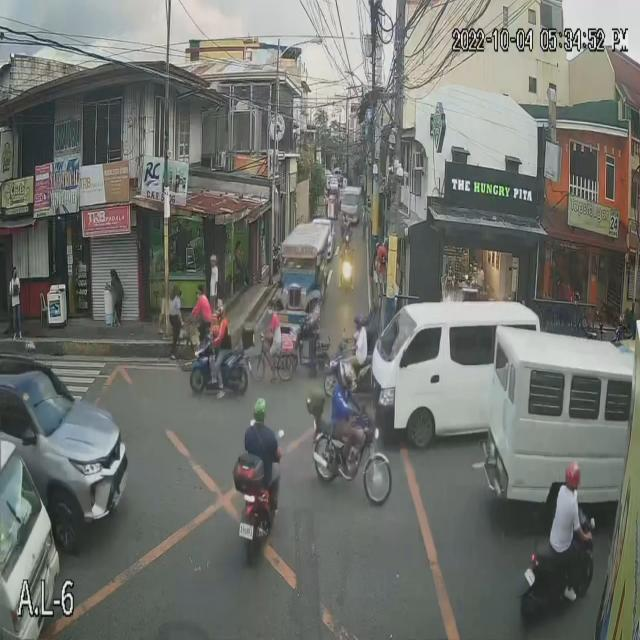full: (338, 359, 357, 394), (214, 305, 225, 323)
half: (564, 464, 581, 494), (353, 310, 363, 328)
invalid: (251, 394, 268, 422)
